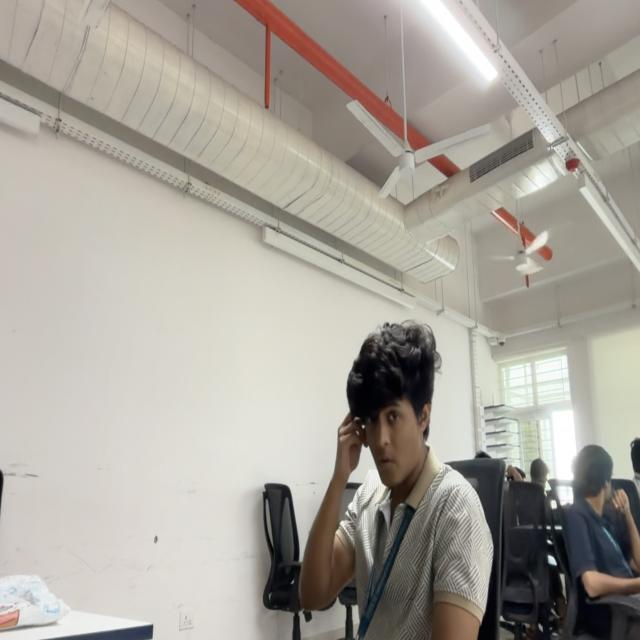kshitij: (346, 322, 435, 489)
